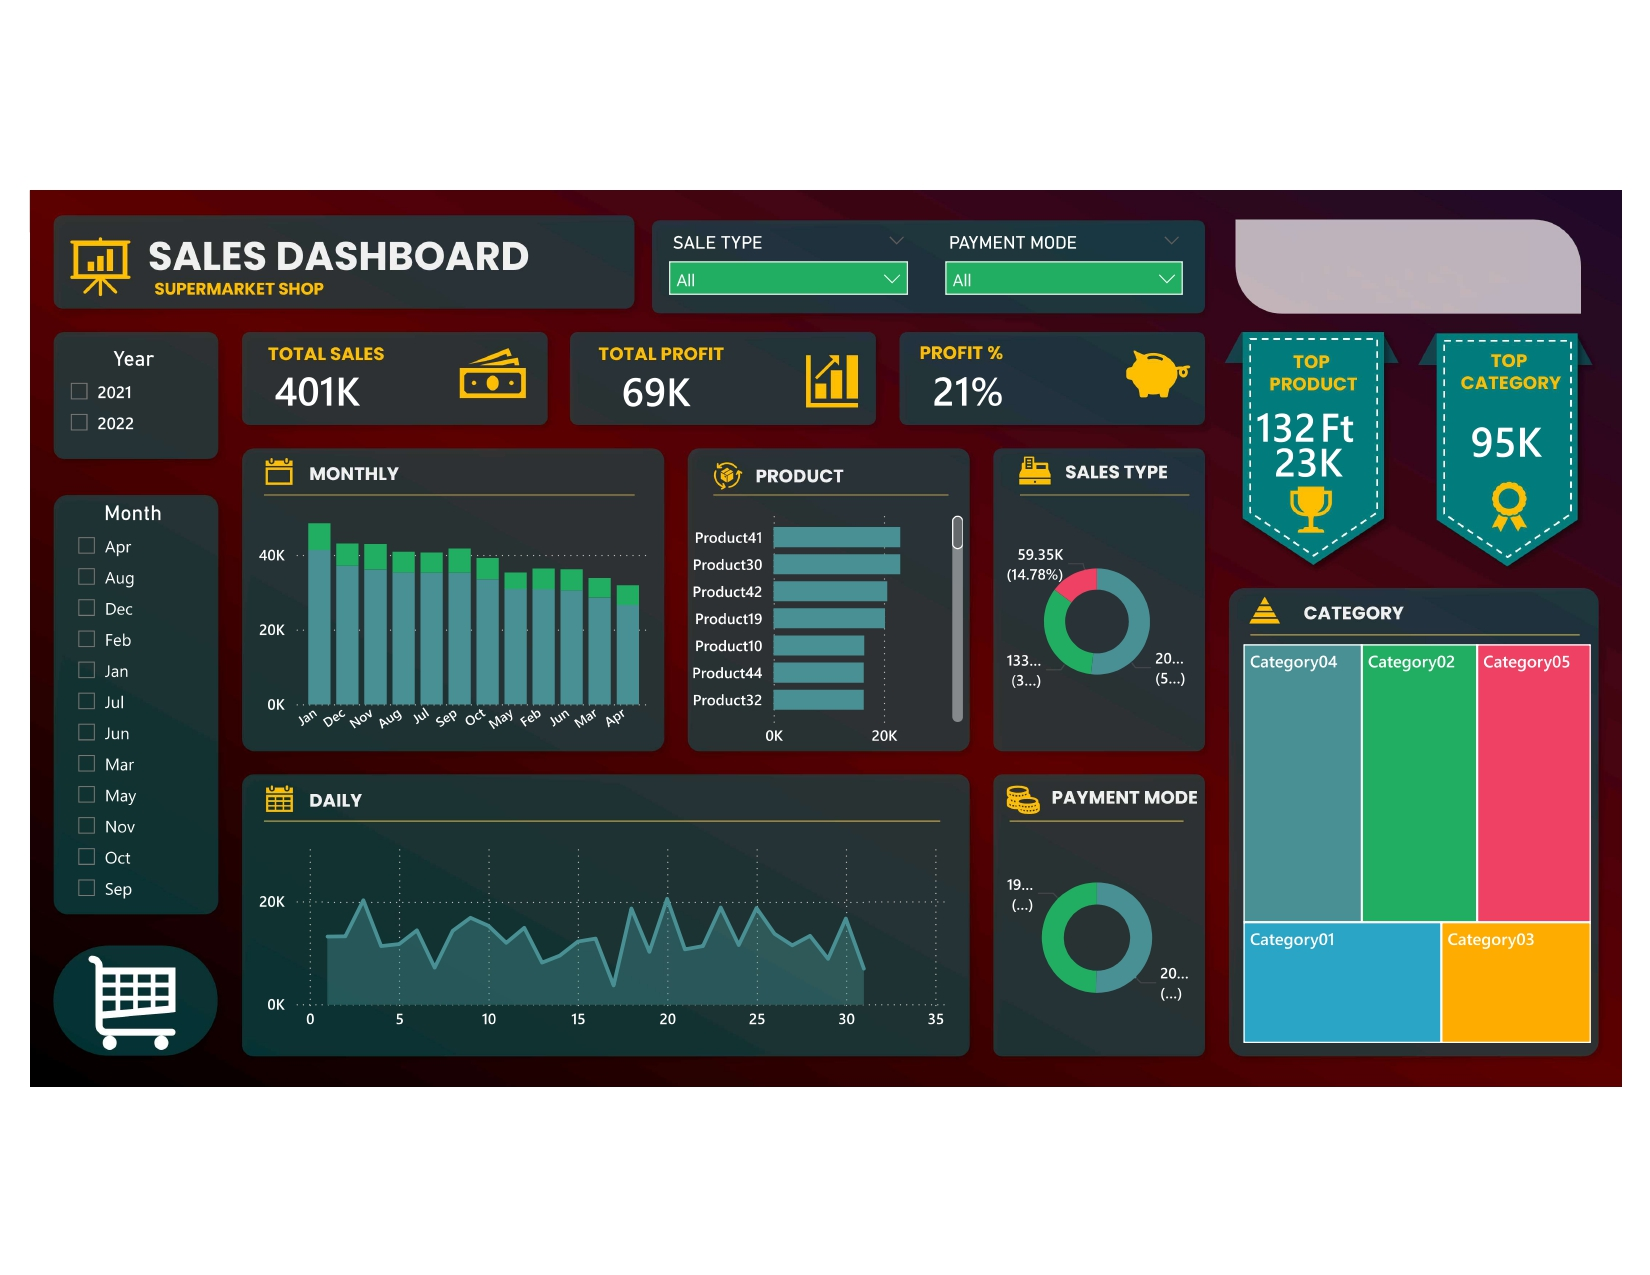

The page's visual inventory and layout, read from the dashboard file:
{"tool":"powerbi","page":{"name":"Page 1","canvas":[1280,720],"ordinal":0},"visuals":[{"type":"slicer","title":"Year","fields":{"Values":["InputData.Year"]},"box":[20.2,125.3,126.7,82.1],"z":0},{"type":"slicer","title":"Month","fields":{"Values":["InputData.Month Name"]},"box":[25.9,249.1,113.8,329.8],"z":1000},{"type":"card","fields":{"Values":["Sum(InputData.Total Selling Value)"]},"box":[146.9,129.6,168.5,61.9],"z":2000},{"type":"card","fields":{"Values":["InputData.Profit"]},"box":[419,131,168.5,60.5],"z":3000},{"type":"card","fields":{"Values":["InputData.Profit %"]},"box":[656.6,115.2,195.8,92.2],"z":4000},{"type":"slicer","fields":{"Values":["InputData.SALE TYPE"]},"box":[504,28.8,211.7,69.1],"z":5000},{"type":"slicer","fields":{"Values":["InputData.PAYMENT MODE"]},"box":[725.8,28.8,211.7,73.4],"z":6000},{"type":"card","fields":{"Values":["Sum(InputData.Total Selling Value)"]},"box":[1130.4,167,113.8,69.1],"z":7000},{"type":"card","fields":{"Values":["Sum(InputData.Total Selling Value)"]},"box":[976.3,161.3,103.7,113.8],"z":8000},{"type":"card","fields":{"Values":["Sum(InputData.QUANTITY)"]},"box":[904.3,115.2,211.7,149.8],"z":9000},{"type":"card","fields":{"Values":["Min(InputData.MasterData.UOM)"]},"box":[976.3,115.2,149.8,149.8],"z":10000},{"type":"donutChart","fields":{"Category":["InputData.SALE TYPE"],"Y":["Sum(InputData.Total Selling Value)"]},"box":[779,249.1,158.4,194.4],"z":11000},{"type":"donutChart","fields":{"Category":["InputData.PAYMENT MODE"],"Y":["Sum(InputData.Total Selling Value)"]},"box":[779,511.2,158.4,178.6],"z":12000},{"type":"clusteredBarChart","fields":{"Category":["InputData.MasterData.PRODUCT"],"Y":["Sum(InputData.Total Selling Value)"]},"box":[525.6,249.1,229,207.4],"z":13000},{"type":"columnChart","fields":{"Category":["InputData.Month Name"],"Y":["Sum(InputData.Total Selling Value)","InputData.Profit"]},"box":[178.6,249.1,325.4,194.4],"z":14000},{"type":"areaChart","fields":{"Category":["InputData.Day"],"Y":["Sum(InputData.Total Selling Value)"]},"box":[178.6,515.5,564.5,168.5],"z":15000},{"type":"treemap","fields":{"Group":["InputData.MasterData.CATEGORY"],"Values":["Sum(InputData.Total Selling Value)"]},"box":[970.6,360,289.4,329.8],"z":16000}]}

Visuals, with their boxes on the page's 1280x720 design canvas (x1, y1, x2, y2). These are canvas units, not pixel positions in the 1650x1275 screenshot, which may show the page scaled, cropped or inside an application window:
"Year" slicer: detection(20, 125, 147, 207)
"Month" slicer: detection(26, 249, 140, 579)
card - Sum(InputData.Total Selling Value): detection(147, 130, 315, 192)
card - InputData.Profit: detection(419, 131, 588, 192)
card - InputData.Profit %: detection(657, 115, 852, 207)
slicer - InputData.SALE TYPE: detection(504, 29, 716, 98)
slicer - InputData.PAYMENT MODE: detection(726, 29, 938, 102)
card - Sum(InputData.Total Selling Value): detection(1130, 167, 1244, 236)
card - Sum(InputData.Total Selling Value): detection(976, 161, 1080, 275)
card - Sum(InputData.QUANTITY): detection(904, 115, 1116, 265)
card - Min(InputData.MasterData.UOM): detection(976, 115, 1126, 265)
donutChart - InputData.SALE TYPE x Sum(InputData.Total Selling Value): detection(779, 249, 937, 444)
donutChart - InputData.PAYMENT MODE x Sum(InputData.Total Selling Value): detection(779, 511, 937, 690)
clusteredBarChart - InputData.MasterData.PRODUCT x Sum(InputData.Total Selling Value): detection(526, 249, 755, 456)
columnChart - InputData.Month Name x Sum(InputData.Total Selling Value): detection(179, 249, 504, 444)
areaChart - InputData.Day x Sum(InputData.Total Selling Value): detection(179, 516, 743, 684)
treemap - InputData.MasterData.CATEGORY x Sum(InputData.Total Selling Value): detection(971, 360, 1260, 690)
